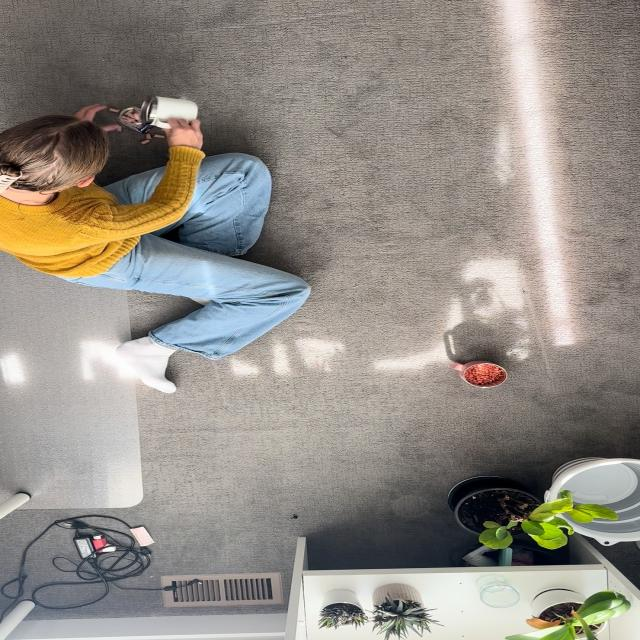IBC: (140, 96, 197, 128), (450, 360, 507, 388)
